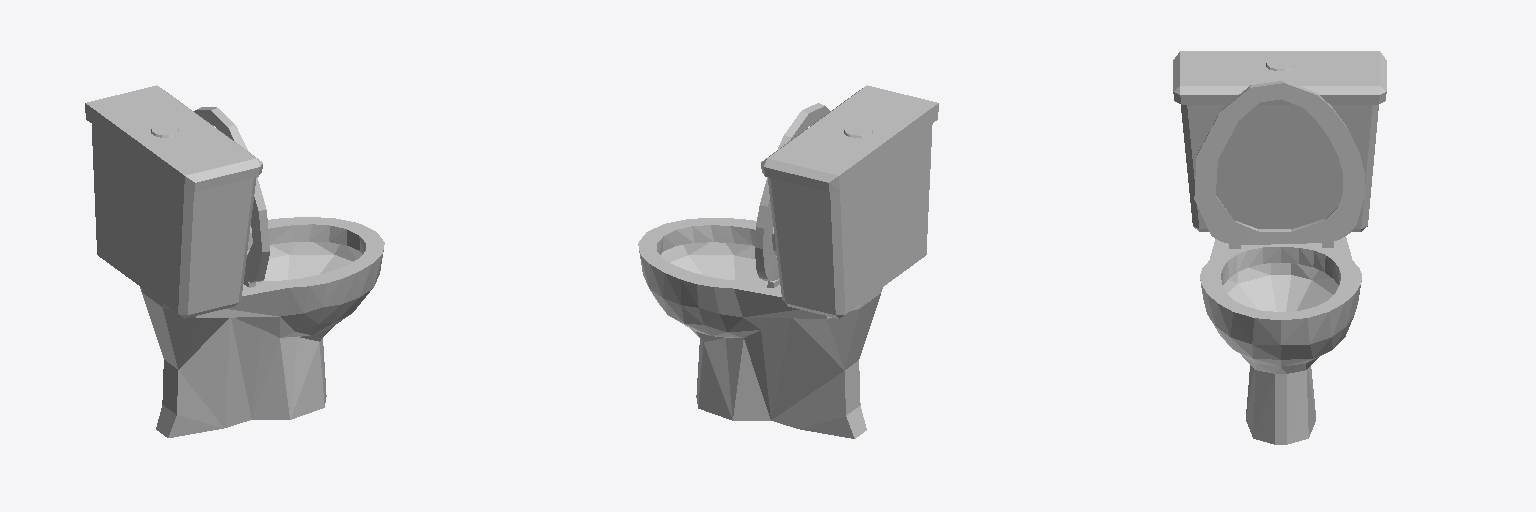
Rendered from Toilet02.obj.
The picture shows the model from 3 angles: view 1: azimuth 30°, elevation 25°; view 2: azimuth 150°, elevation 25°; view 3: azimuth 270°, elevation 25°; orthographic projection.
Visible parts, largest first — view 1: Toilet02_LOD0_toilet_modern.001; view 2: Toilet02_LOD0_toilet_modern.001; view 3: Toilet02_LOD0_toilet_modern.001.
Part boxes in pixels (bbox=[...]): Toilet02_LOD0_toilet_modern.001: bbox=[85, 85, 384, 437]; Toilet02_LOD0_toilet_modern.001: bbox=[638, 85, 938, 438]; Toilet02_LOD0_toilet_modern.001: bbox=[1173, 51, 1386, 444].
Bounding box in the file's own units: 0.7514 × 0.9232 × 0.5741.